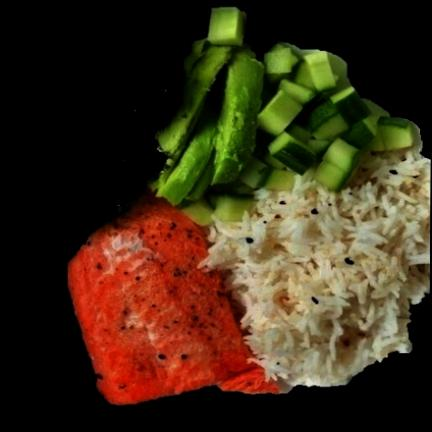cucumber: (150, 6, 415, 224)
fish: (67, 190, 280, 404)
rice: (204, 147, 430, 385)
